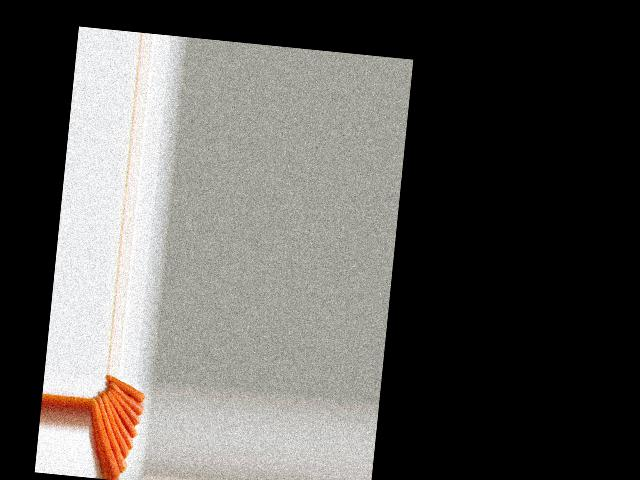carrot: (85, 399, 125, 476)
